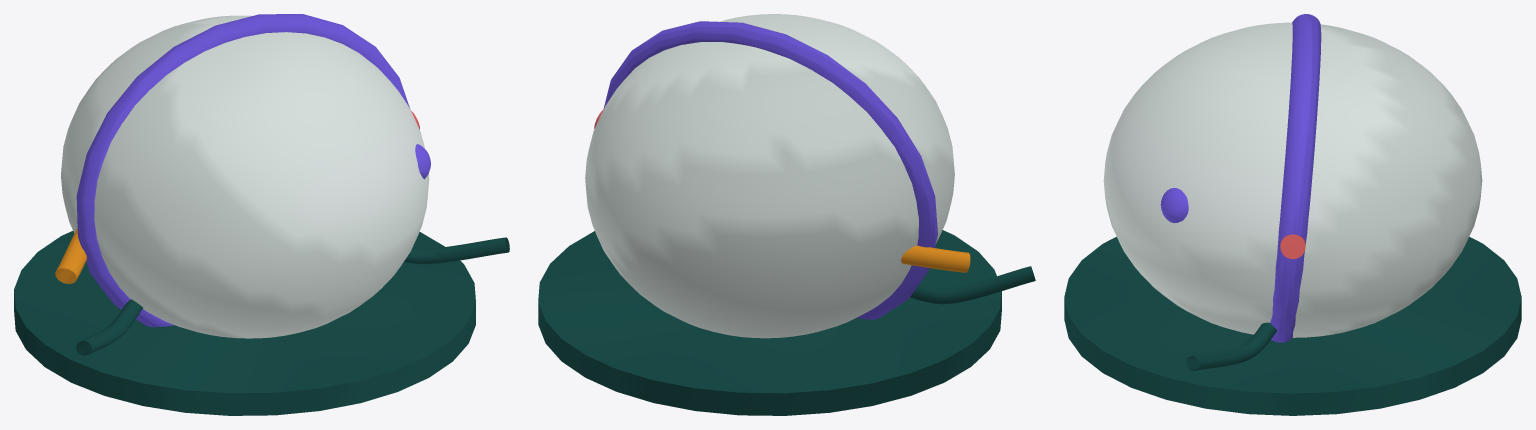
The model's file is 1236_细胞图鉴_细胞膜.glb.
The picture shows the model from 3 angles, left to right: view 1: azimuth 30°, elevation 25°; view 2: azimuth 150°, elevation 25°; view 3: azimuth 270°, elevation 25°; orthographic projection.
Visible parts, largest first — view 1: card_1236; view 2: card_1236; view 3: card_1236.
Part boxes in pixels (bbox=[...]): card_1236: bbox=[14, 14, 509, 415]; card_1236: bbox=[538, 14, 1035, 415]; card_1236: bbox=[1064, 14, 1521, 415].
Bounding box in the file's own units: 1.51 × 1 × 1.41.
